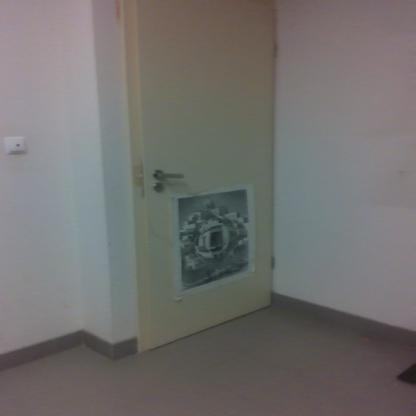door: (134, 0, 274, 316)
hinged: (272, 42, 278, 59), (272, 256, 276, 268)
lever: (154, 172, 186, 180)
